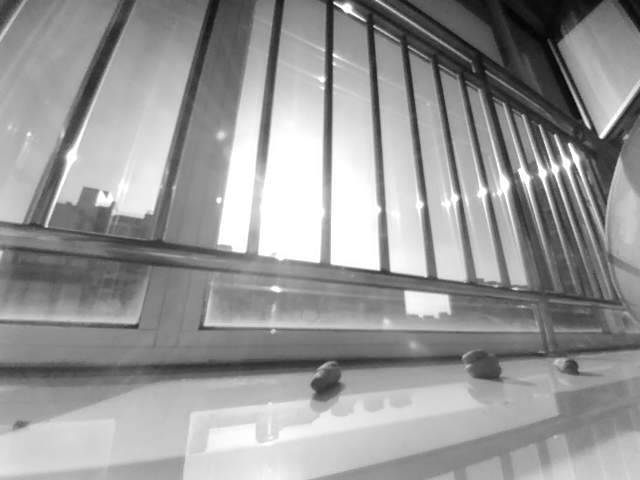pet feces: (462, 348, 503, 380), (310, 360, 345, 396), (552, 356, 580, 375)
